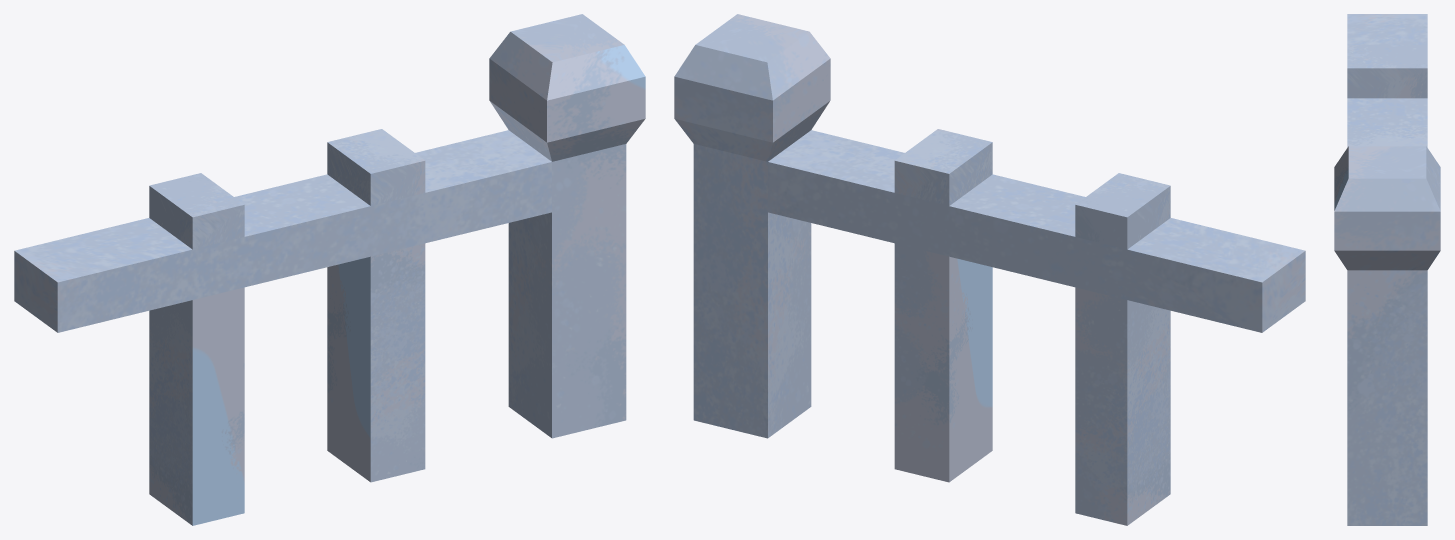
The model's file is SM_museumRailing1.fbx.
3 views of the same model, side by side, from view 1: azimuth 30°, elevation 25°; view 2: azimuth 150°, elevation 25°; view 3: azimuth 270°, elevation 25° (orthographic). The views are drawn at different scales.
Visible parts, largest first — view 1: railing1; view 2: railing1; view 3: railing1.
Boxes of the visible parts, box(x1,y1,x2,y2) form: railing1: box(14, 14, 645, 525); railing1: box(674, 14, 1305, 525); railing1: box(1334, 14, 1440, 525).
Size of the model in its own units: 14.21 by 8.78 by 2.44.
Materials: 1 (1 with a texture image).
